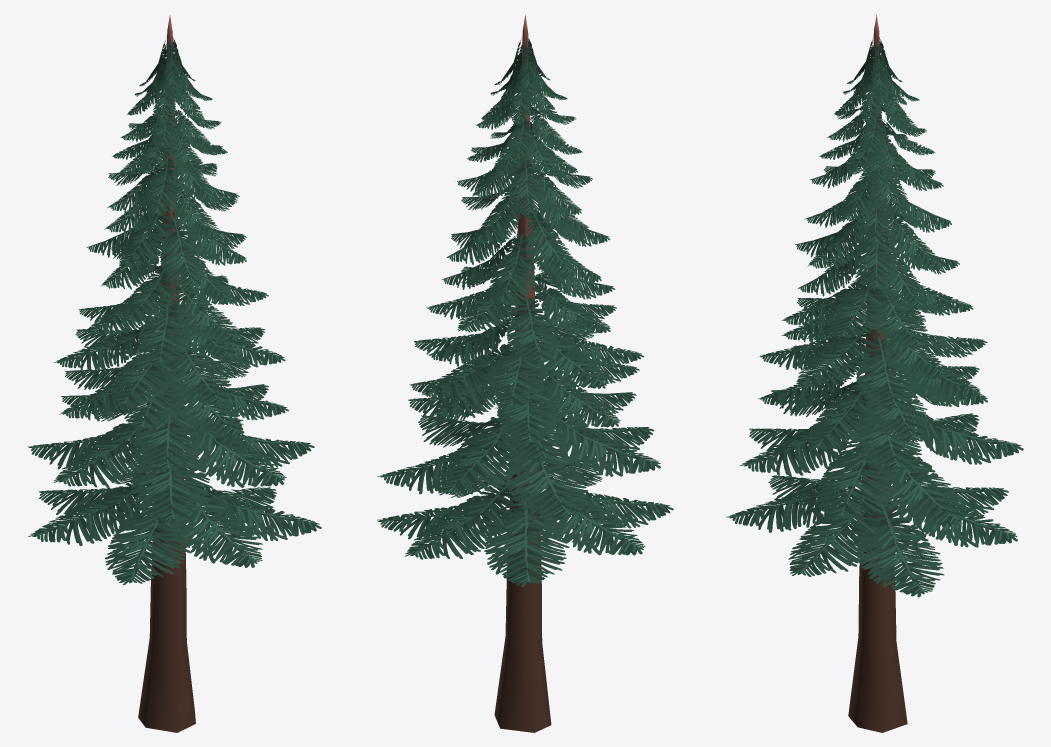
The model's file is Pine_Tree_2A.fbx.
3 renders of one model, left to right at view 1: azimuth 30°, elevation 25°; view 2: azimuth 150°, elevation 25°; view 3: azimuth 270°, elevation 25°, orthographic.
Visible parts, largest first — view 1: Pine_Tree_2A; view 2: Pine_Tree_2A; view 3: Pine_Tree_2A.
Boxes of the visible parts, box(x1,y1,x2,y2) form: Pine_Tree_2A: box(28, 15, 321, 732); Pine_Tree_2A: box(377, 15, 673, 732); Pine_Tree_2A: box(726, 15, 1023, 732).
Size of the model in its own units: 381 by 927 by 385.
